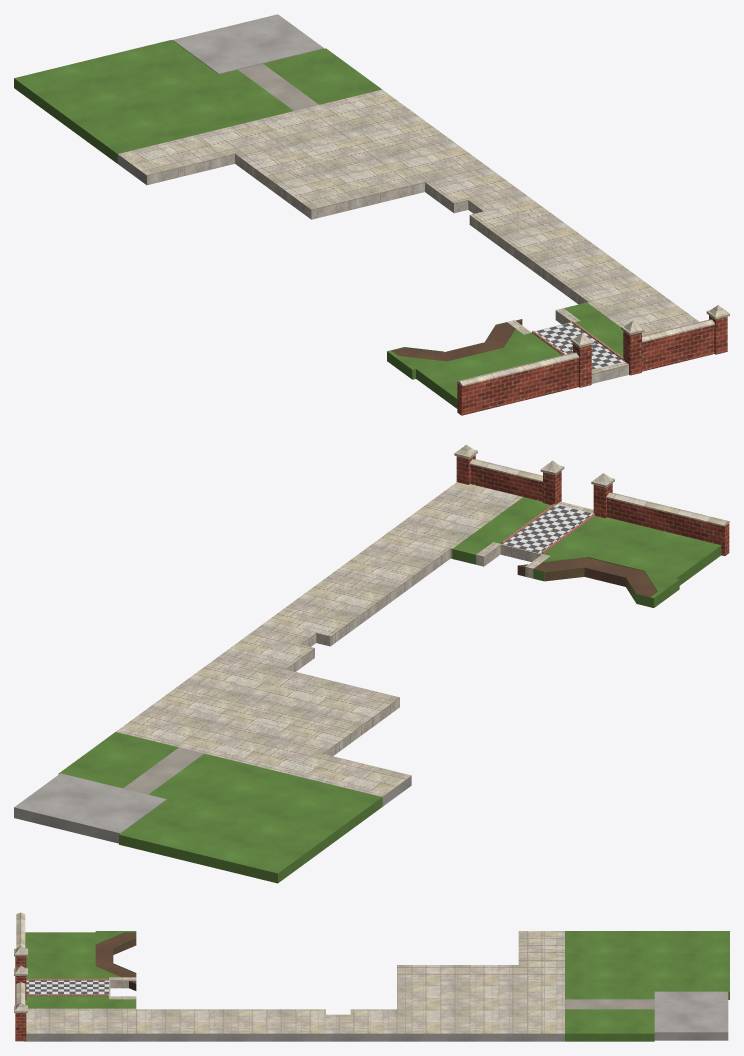
File: site_r.glb
3 views of the same model, one above another, from view 1: azimuth 30°, elevation 25°; view 2: azimuth 150°, elevation 25°; view 3: azimuth 270°, elevation 25° (orthographic). The views are drawn at different scales.
Visible parts, largest first — view 1: site_r_stone_c, site_r_lawn, site_r_brick, site_r_conc_s, site_r_mulch, site_r_gravel, site_r_tile_b, site_r_tile_w2; view 2: site_r_stone_c, site_r_lawn, site_r_conc_s, site_r_brick, site_r_mulch, site_r_gravel, site_r_tile_b, site_r_tile_w2; view 3: site_r_stone_c, site_r_lawn, site_r_conc_s, site_r_mulch, site_r_gravel, site_r_tile_b, site_r_tile_w2, site_r_brick, site_r_tile_r.
Boxes of the visible parts, x1,y1,x2,y2 form: site_r_stone_c: (118,89,729,386); site_r_lawn: (14,40,623,408); site_r_brick: (457,315,727,415); site_r_conc_s: (117,14,689,335); site_r_mulch: (392,319,522,361); site_r_gravel: (238,63,318,110); site_r_tile_b: (537,323,620,369); site_r_tile_w2: (535,323,623,368); site_r_stone_c: (116,444,729,796); site_r_lawn: (58,497,721,883); site_r_conc_s: (14,486,514,843); site_r_brick: (456,455,729,555); site_r_mulch: (517,557,657,601); site_r_gravel: (123,747,204,794); site_r_tile_b: (506,505,590,552); site_r_tile_w2: (503,505,592,553); site_r_stone_c: (14,912,564,1033); site_r_lawn: (25,931,729,1041); site_r_conc_s: (24,931,728,1041); site_r_mulch: (95,933,136,990); site_r_gravel: (565,999,654,1009); site_r_tile_b: (26,980,108,995); site_r_tile_w2: (26,980,108,995); site_r_brick: (15,956,26,1041); site_r_tile_r: (26,978,108,996).
Size of the model in its own units: 8.45 by 1.55 by 24.73.
10 materials, 6 textured.
